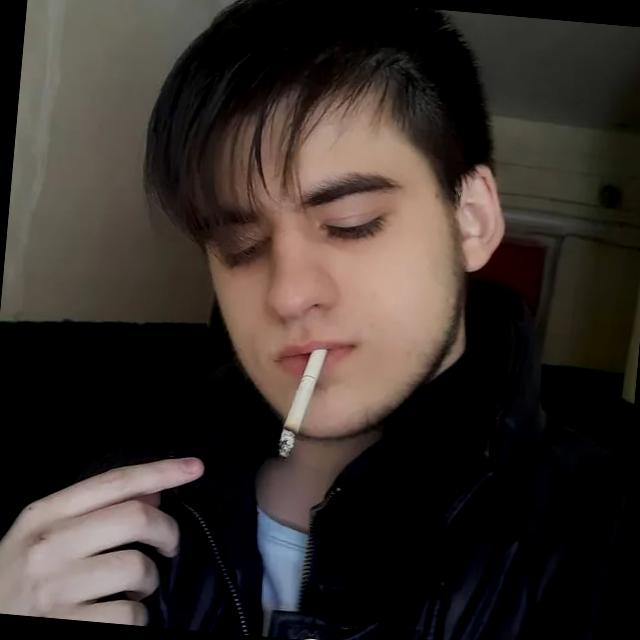cigarette: (272, 341, 330, 466)
